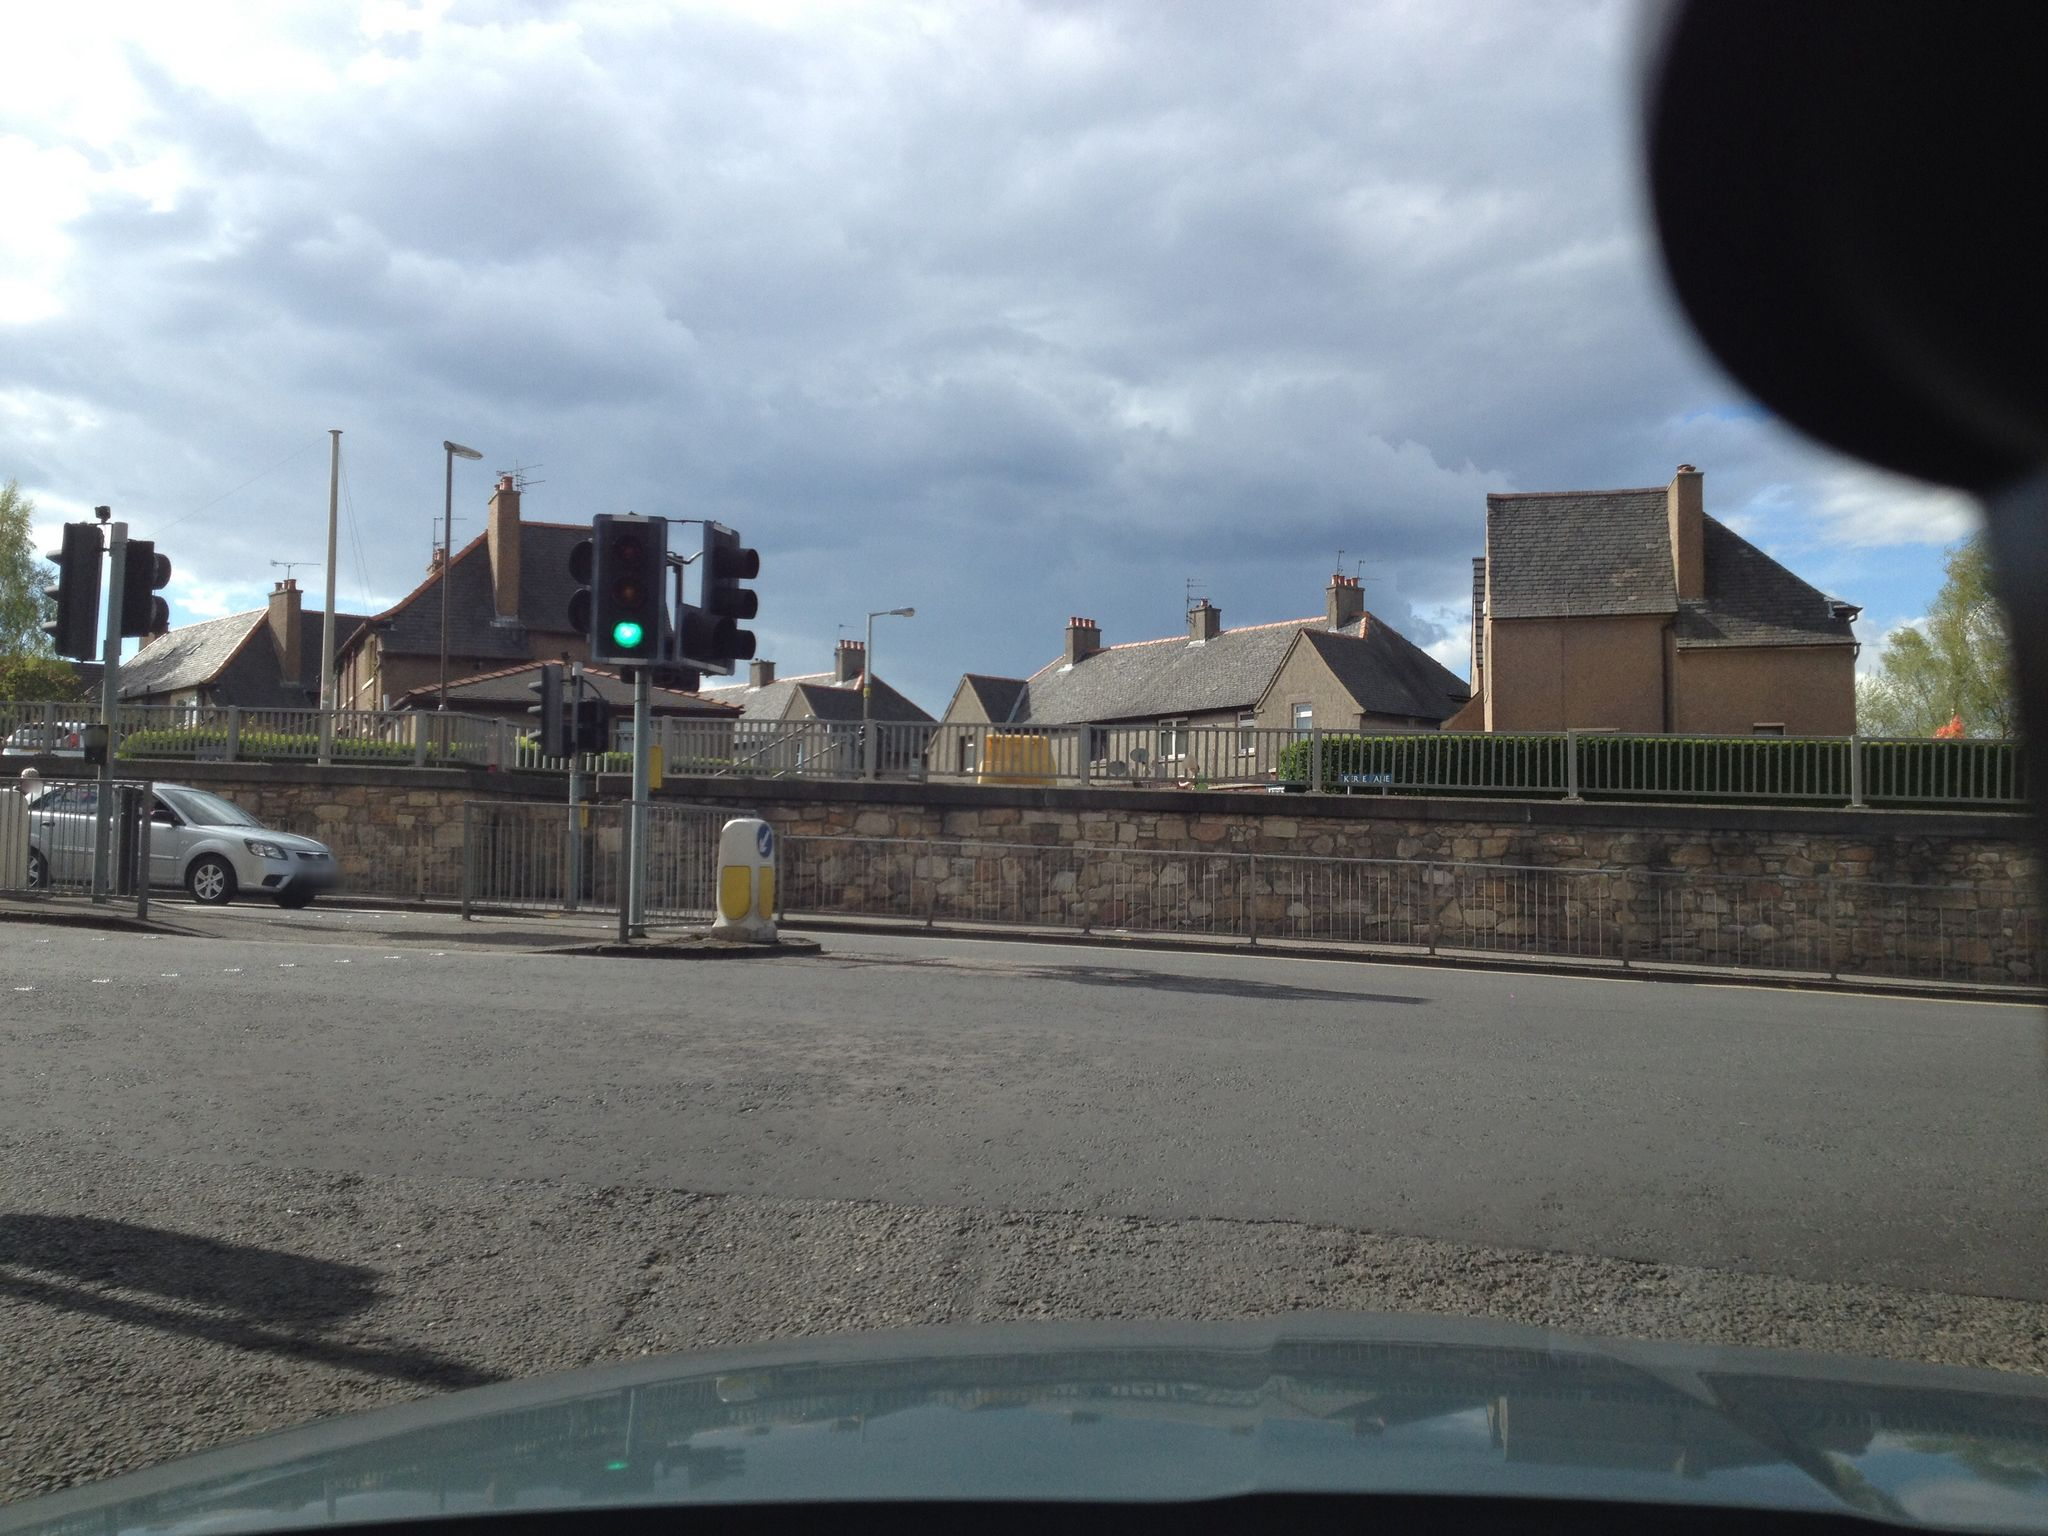car: (19, 778, 337, 907)
